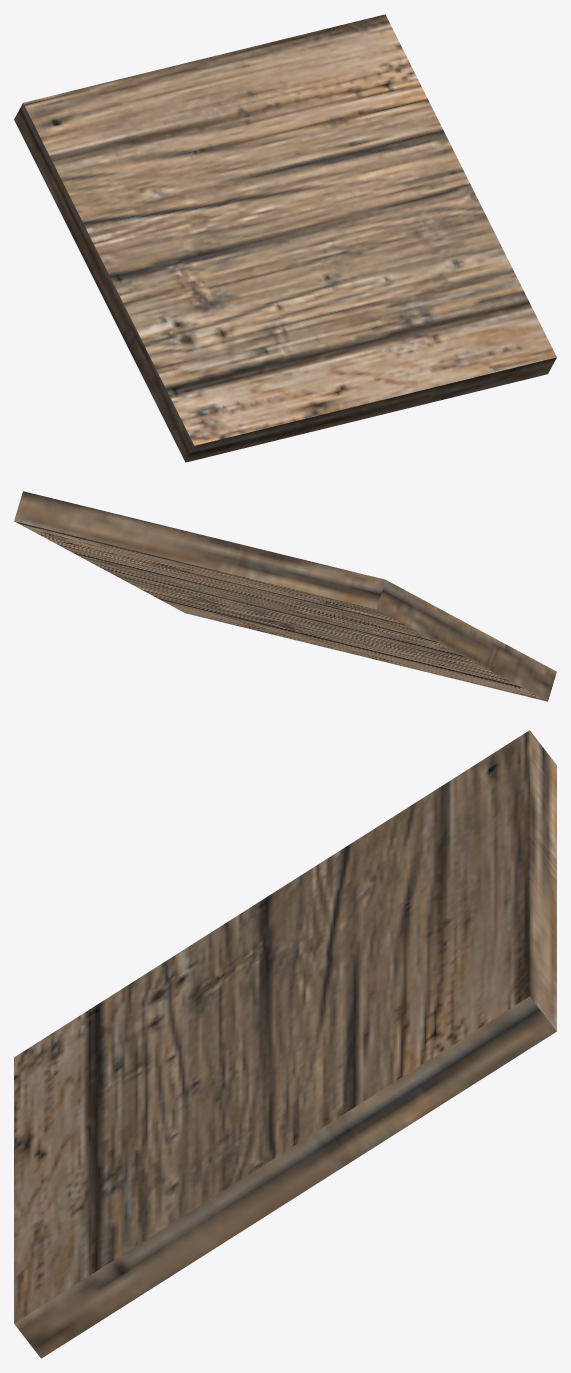
Rendered from wood roofing.glb.
3 renders of one model, top to bottom at view 1: azimuth 30°, elevation 25°; view 2: azimuth 150°, elevation 25°; view 3: azimuth 270°, elevation 25°, orthographic. The views are drawn at different scales.
Visible parts, largest first — view 1: Plane.002; view 2: Plane.002; view 3: Plane.002.
Boxes of the visible parts, bbox=[...] form: Plane.002: bbox=[14, 14, 556, 462]; Plane.002: bbox=[14, 491, 556, 701]; Plane.002: bbox=[14, 730, 556, 1358].
Size of the model in its own units: 1 by 0.6353 by 0.8624.
Materials: 1 (1 with a texture image).
